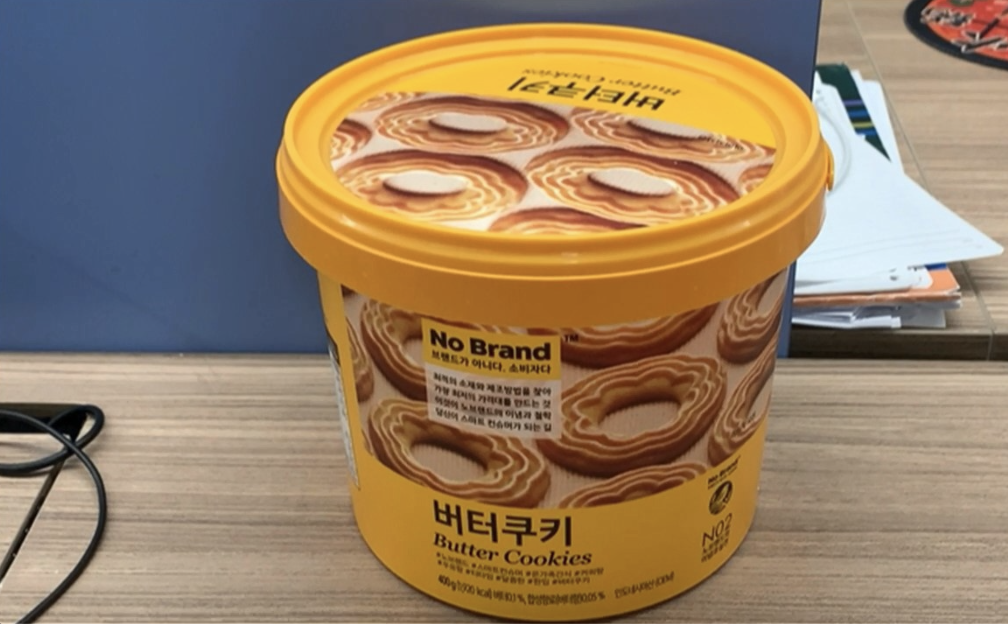cookies_400g-499g: (359, 299, 749, 569)
